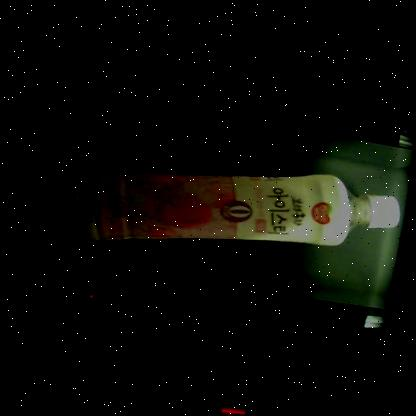Plastic Bottle: (75, 170, 399, 246)
